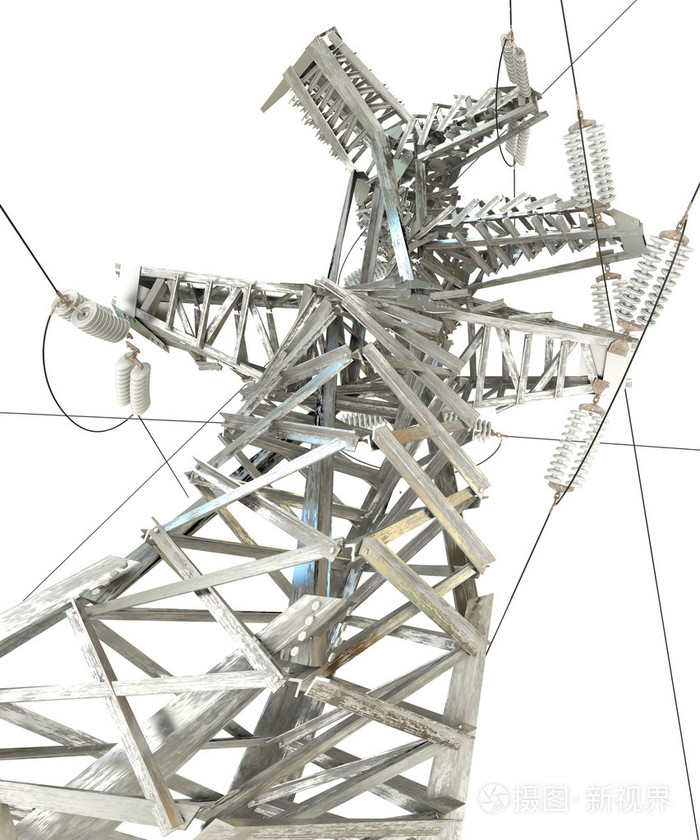insulator: (619, 226, 692, 321), (564, 125, 618, 212), (547, 404, 605, 483), (49, 293, 133, 340), (495, 33, 532, 100), (111, 357, 151, 413), (591, 278, 630, 333)
